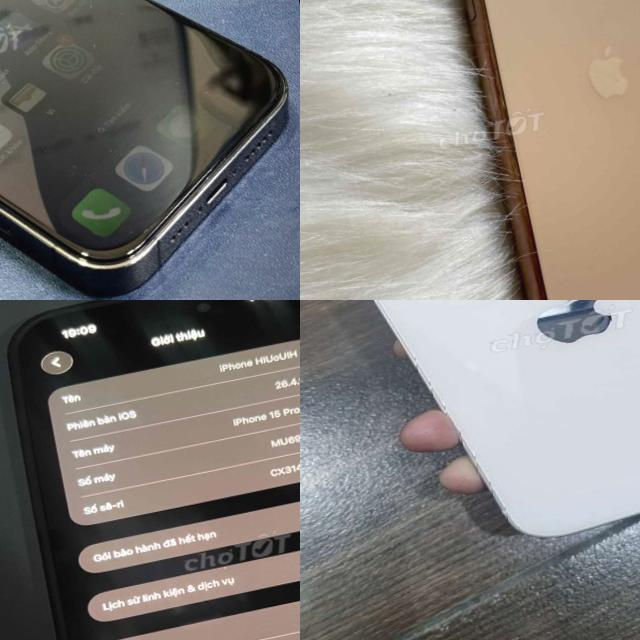gen_11: (418, 0, 640, 300)
gen_12_13: (310, 300, 640, 573), (0, 0, 300, 300)
gen_15: (0, 300, 300, 640)
